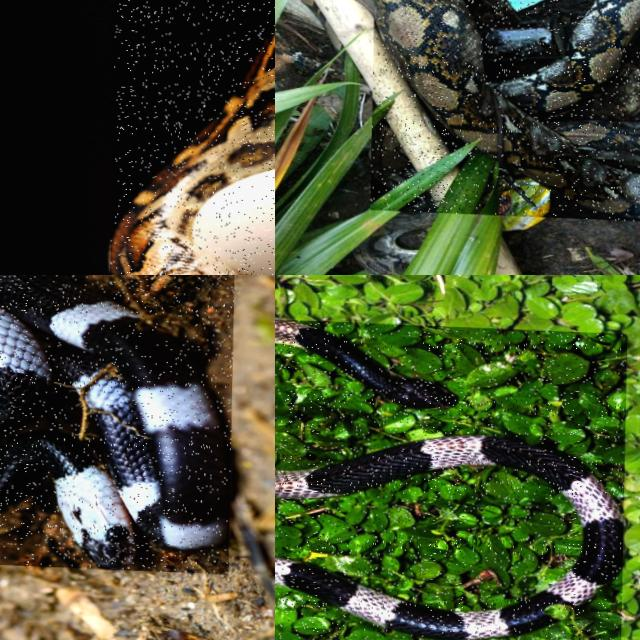Bungarus candidus: (275, 435, 624, 639), (0, 275, 230, 568)
Malayopython reticulatus: (377, 0, 639, 218)
Python bivittatus: (111, 29, 274, 274)
